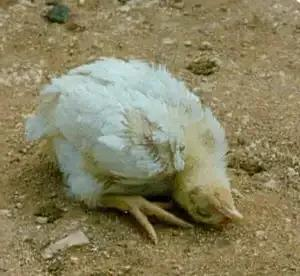AbNormal: (27, 54, 249, 229)
